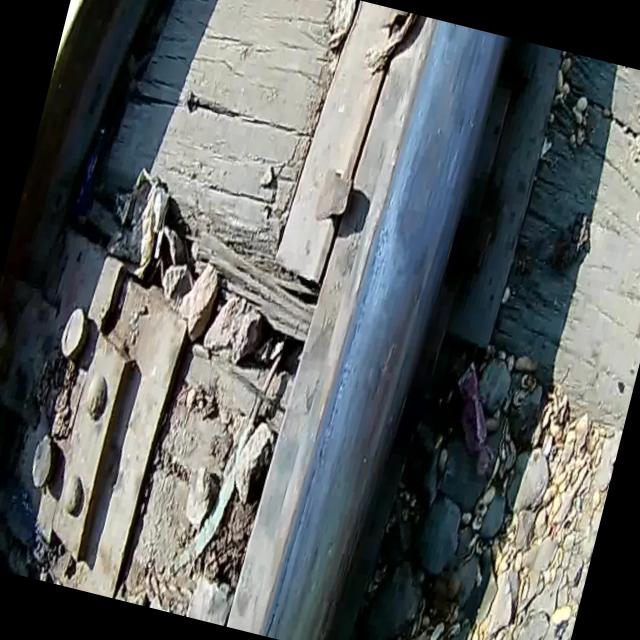Squats: (243, 9, 526, 640)
